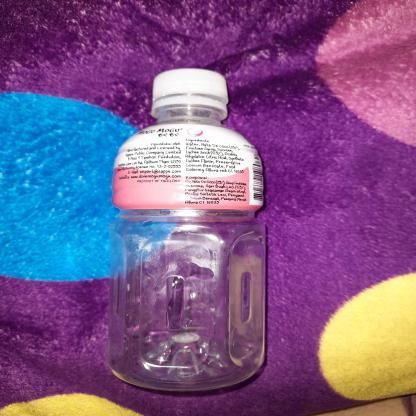plastic: (97, 67, 272, 396)
